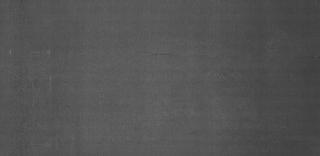silk spot: (217, 26, 293, 92)
